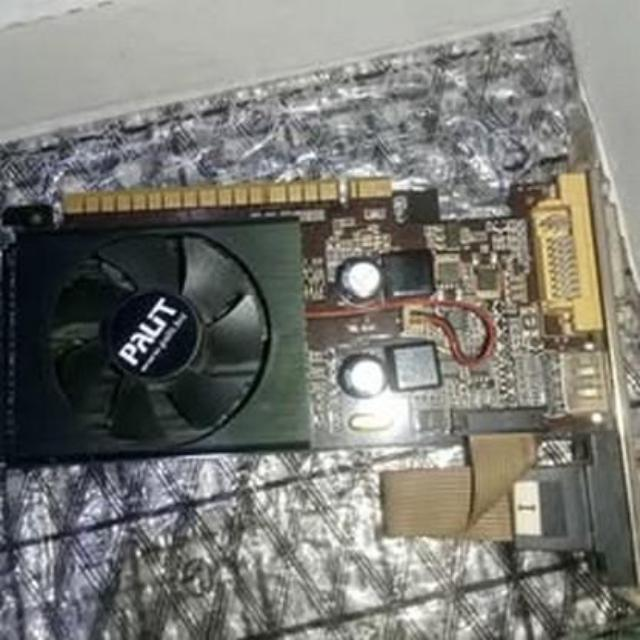GPU: (0, 160, 640, 460)
